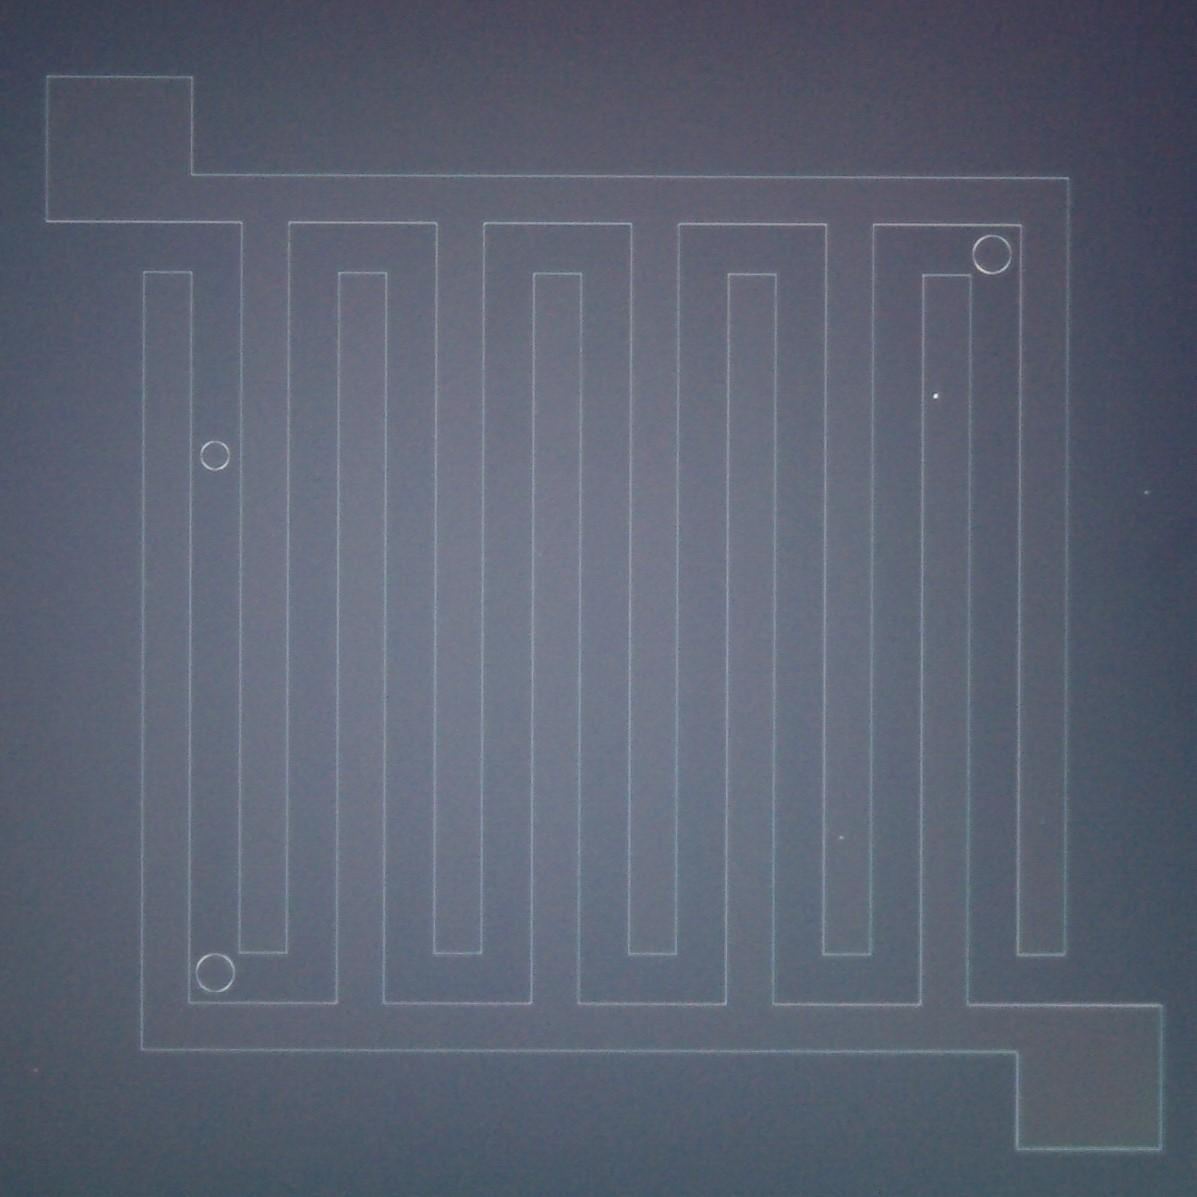circle: (196, 953, 237, 995), (971, 235, 1014, 275), (200, 438, 231, 472)
s_point: (930, 390, 943, 403), (834, 832, 848, 844), (1141, 486, 1152, 498), (32, 1067, 42, 1073)
